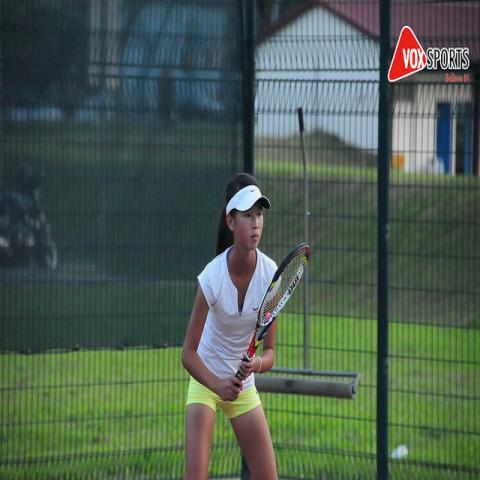motorcycle: (0, 158, 58, 272)
